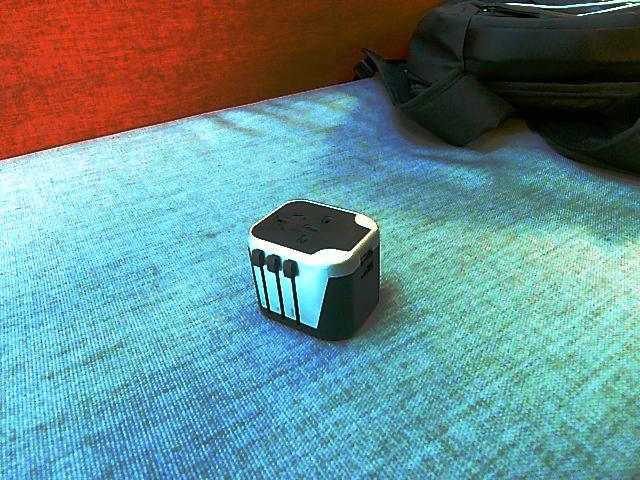adapter: (246, 198, 382, 342)
